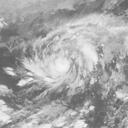cyclone: (19, 26, 103, 92)
